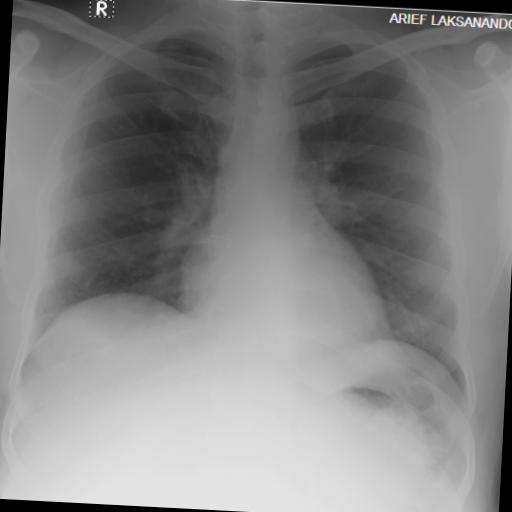normal: (9, 0, 507, 424)
